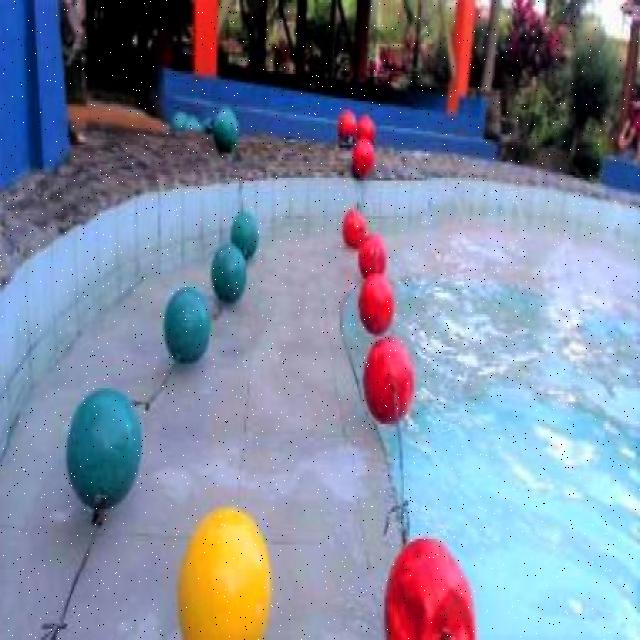buoy: (178, 505, 271, 638), (383, 534, 475, 636), (65, 387, 141, 510), (363, 336, 414, 424), (163, 287, 210, 364), (357, 272, 394, 335), (211, 243, 246, 305), (228, 208, 258, 258), (356, 231, 386, 278), (212, 106, 237, 150), (342, 206, 366, 248), (351, 136, 373, 175), (355, 111, 375, 146), (336, 110, 356, 142)
